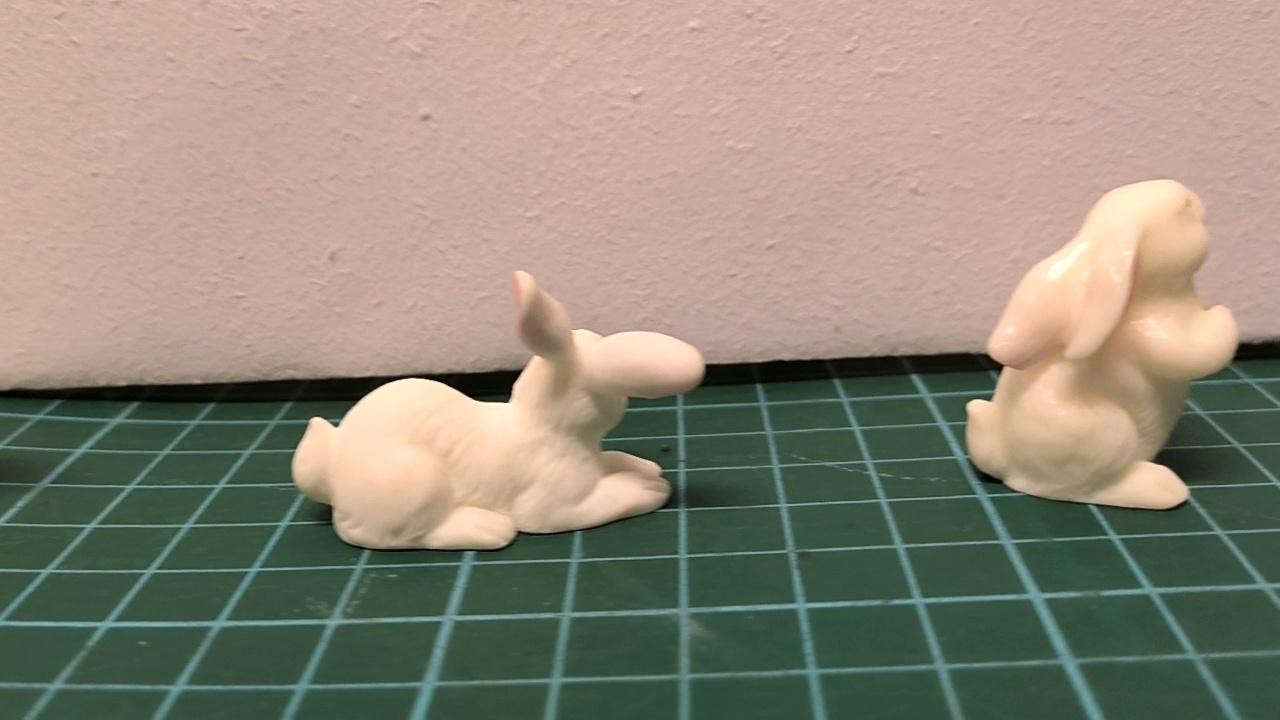pet: (292, 271, 707, 552), (963, 178, 1239, 508)
